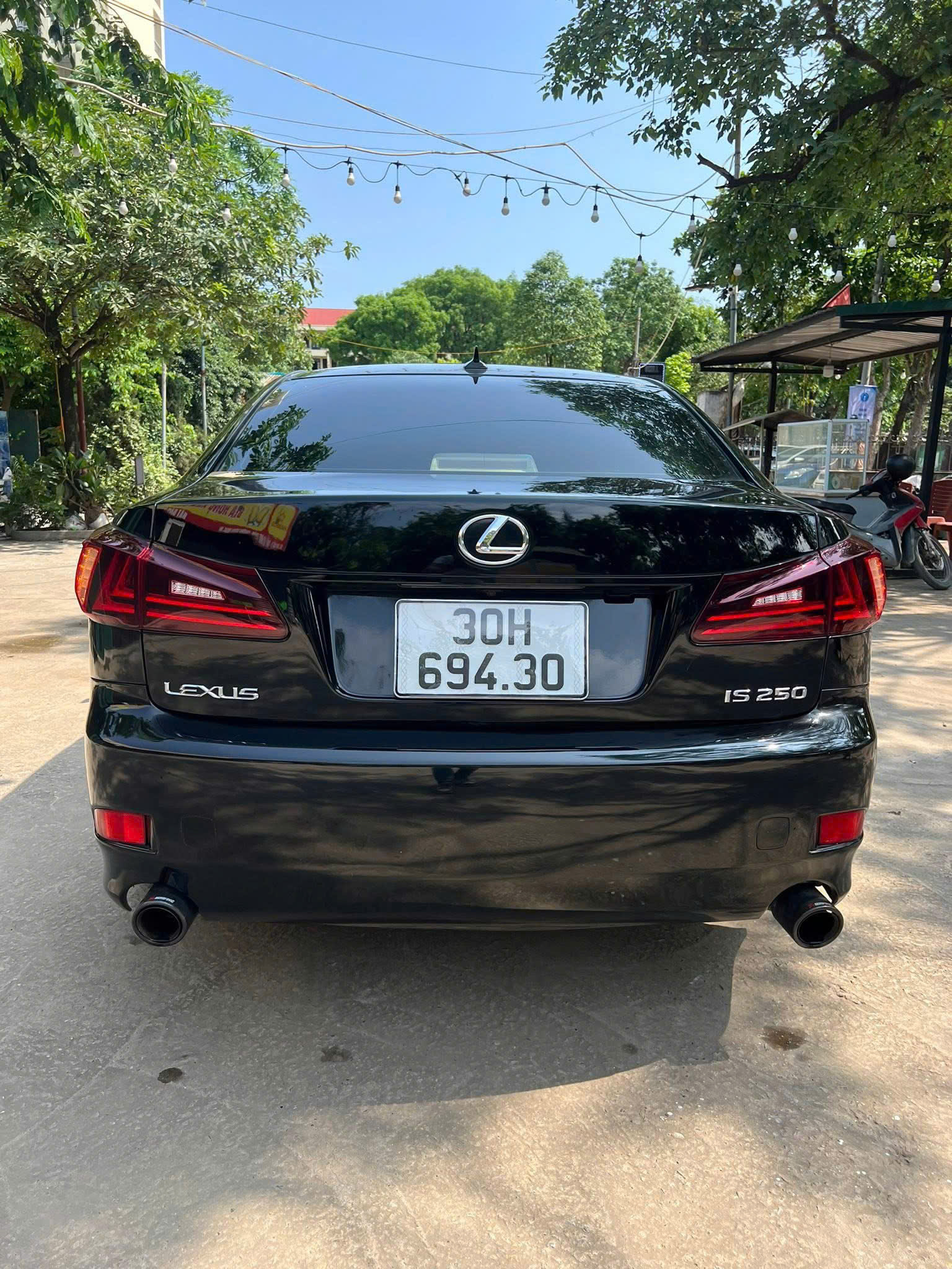Bien-so: (401, 604, 580, 692)
